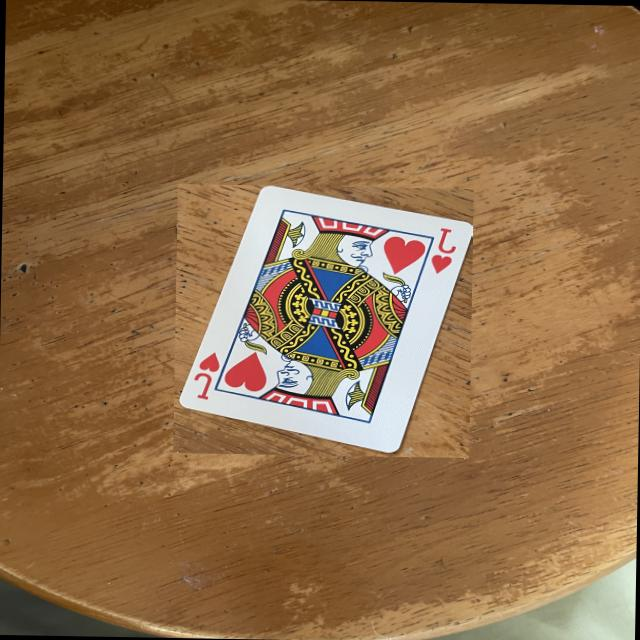Jack of hearts: (174, 185, 472, 456)
